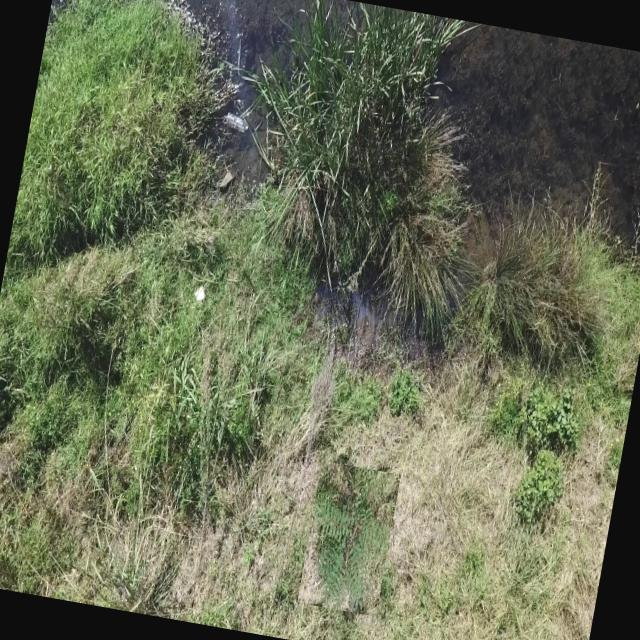Mysore-Thorn-Weed: (297, 461, 400, 616)
